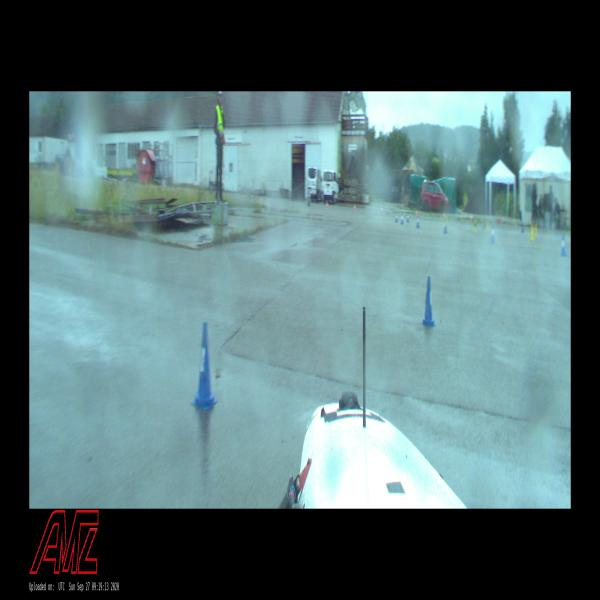blue_cone: (192, 322, 217, 408), (421, 279, 436, 326), (561, 236, 566, 252), (490, 226, 495, 241), (444, 221, 448, 234), (395, 212, 398, 222), (406, 212, 409, 220), (400, 214, 403, 222), (417, 216, 419, 225)
orange_cone: (353, 204, 356, 212), (415, 209, 417, 216)
yellow_cone: (530, 228, 533, 240), (473, 219, 476, 231)
